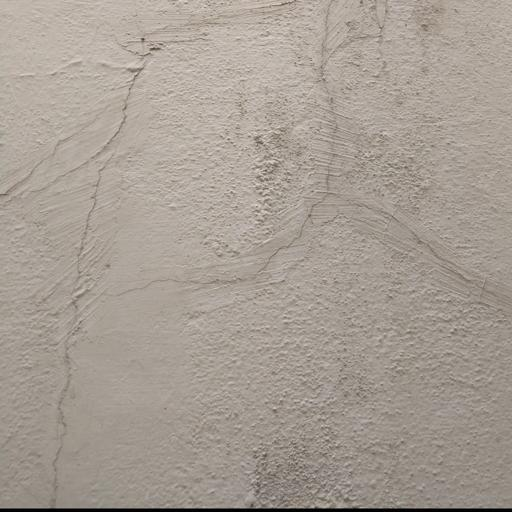minor_crack: (28, 25, 203, 512), (276, 1, 512, 300), (113, 164, 346, 301)
